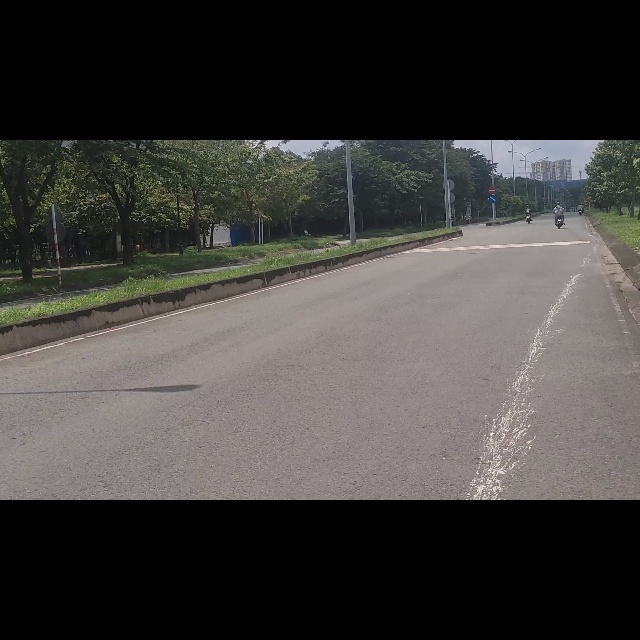bien_cam: (488, 82, 497, 96), (489, 98, 497, 113)
